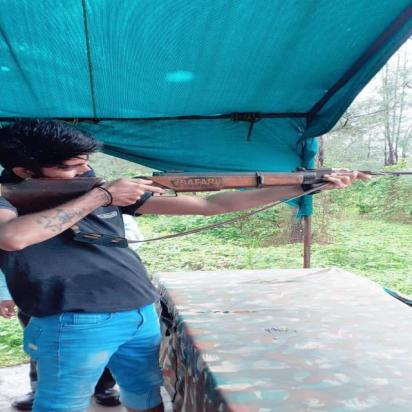Gun: (0, 165, 411, 217)
